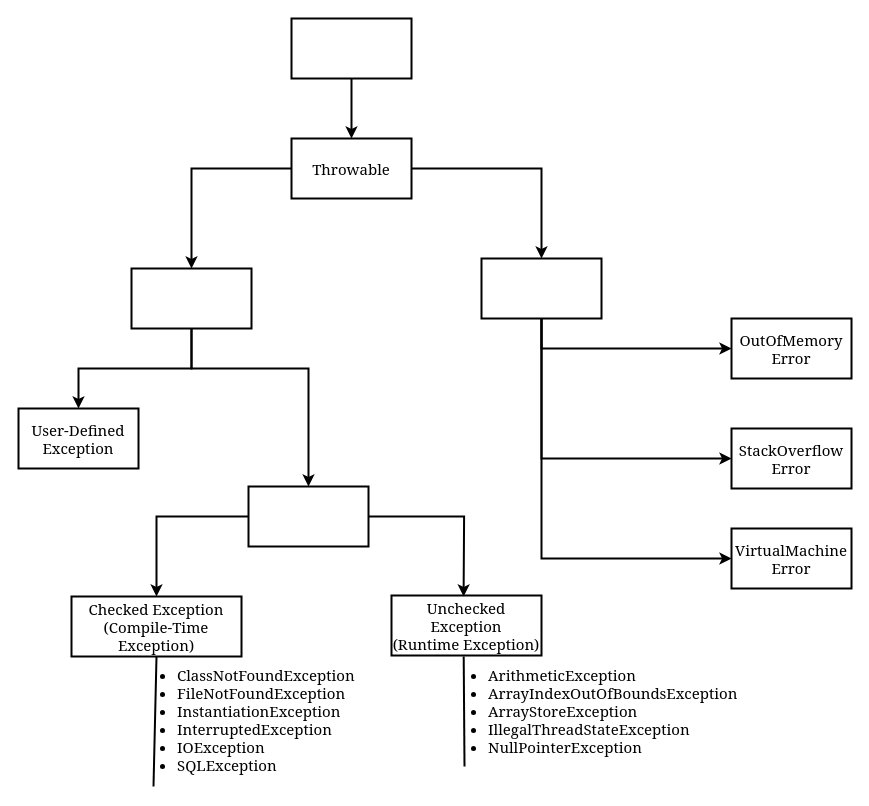
Image size: 869x806. Some labels were removed from this diagram. Each missing label, with the centre of its shape:
"Built-in Exception" belongs at (308,516).
"Error" belongs at (541,288).
"Exception" belongs at (191,298).
"Object" belongs at (351,48).
